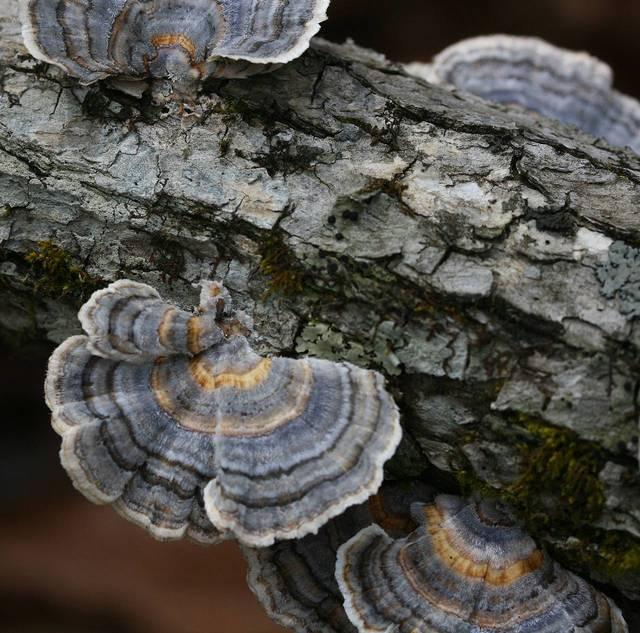Non-edible Mushroom: (42, 276, 404, 549), (332, 490, 631, 632), (17, 0, 334, 111)
